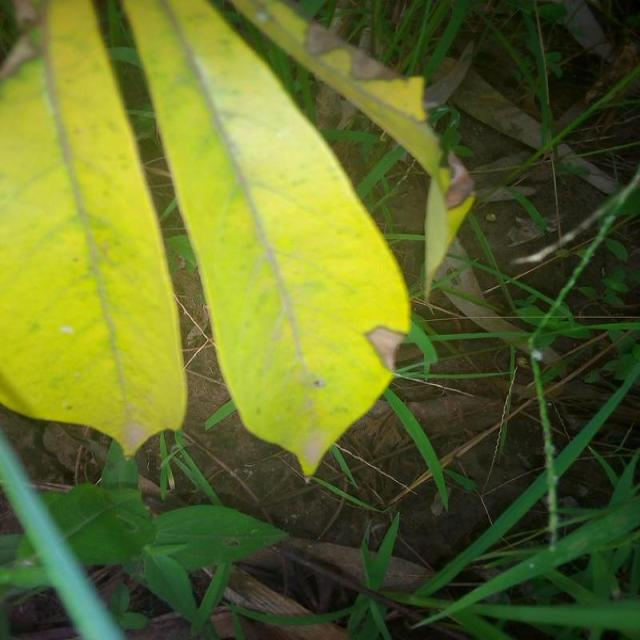cassava leaf: (120, 0, 413, 477), (0, 0, 189, 458)
